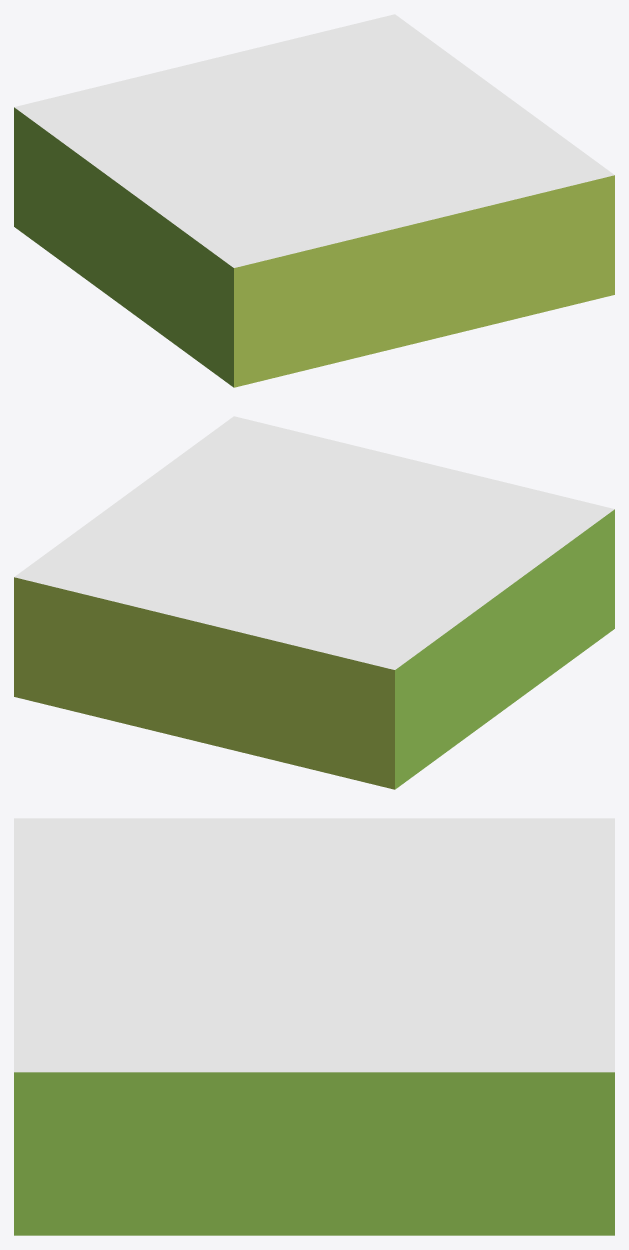
File: floor_basic1.fbx
3 renders of one model, top to bottom at view 1: azimuth 30°, elevation 25°; view 2: azimuth 150°, elevation 25°; view 3: azimuth 270°, elevation 25°, orthographic. The views are drawn at different scales.
Parts seen in each view (by area): view 1: floor_basic1; view 2: floor_basic1; view 3: floor_basic1.
Part boxes in pixels (x1=…): floor_basic1: x1=14, y1=14, x2=614, y2=387; floor_basic1: x1=14, y1=416, x2=614, y2=789; floor_basic1: x1=14, y1=818, x2=614, y2=1235.
Bounding box in the file's own units: 100 × 30 × 100.
